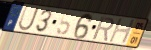3: (34, 9, 54, 34)
5: (56, 11, 77, 36)
6: (72, 12, 95, 41)
H: (107, 18, 136, 45)
R: (91, 16, 115, 42)
U: (17, 5, 41, 32)
